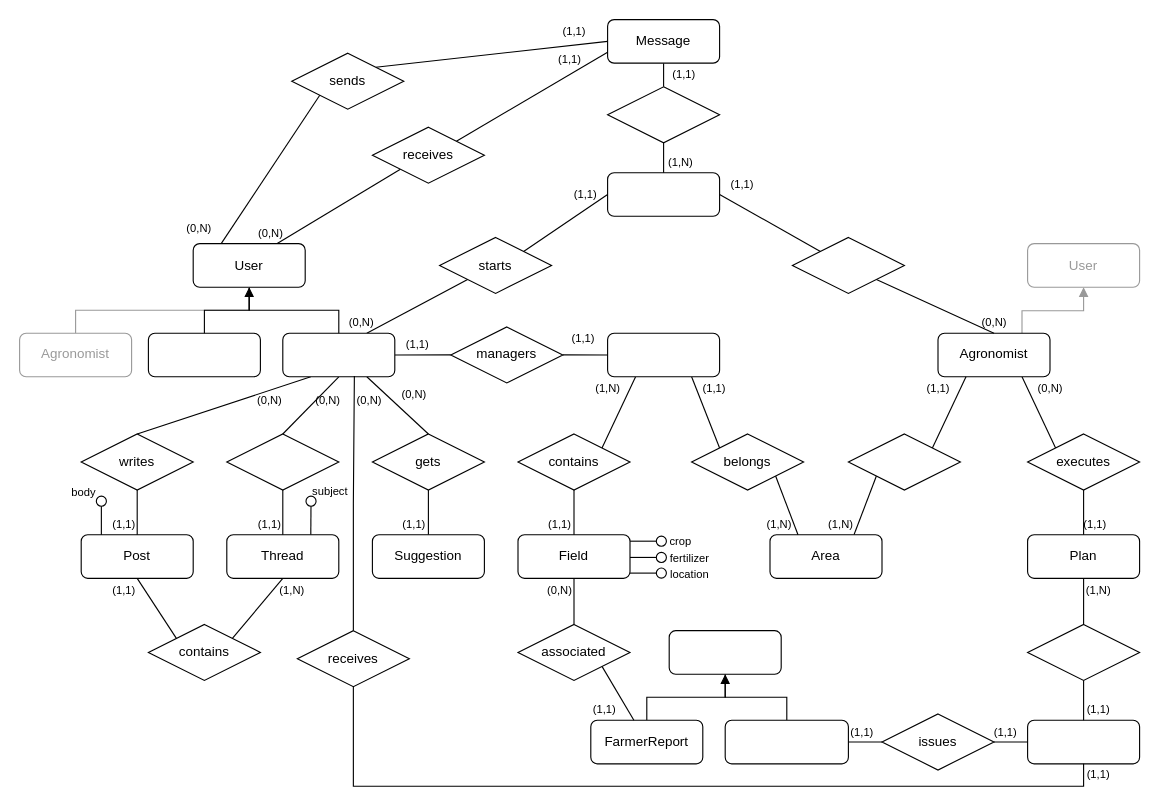
Image size: 1159x808. Some labels were removed from this diagram. Each missing label, with the centre of its shape:
AgronomistReport: (x=786, y=741)
Conversation: (x=663, y=194)
creates: (x=282, y=461)
Farm: (x=663, y=354)
Farmer: (x=338, y=354)
includes: (x=1083, y=651)
involves: (x=847, y=264)
makes: (x=663, y=114)
oversees: (x=903, y=461)
Policy Maker: (x=203, y=354)
Report: (x=724, y=652)
Visit: (x=1083, y=741)
